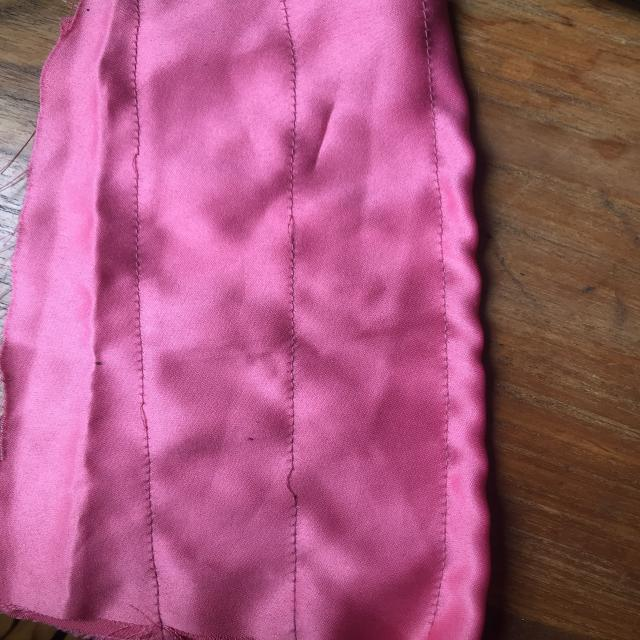good: (284, 87, 312, 158)
skip: (268, 205, 326, 258), (265, 458, 315, 508), (121, 400, 169, 437), (116, 151, 160, 188)
